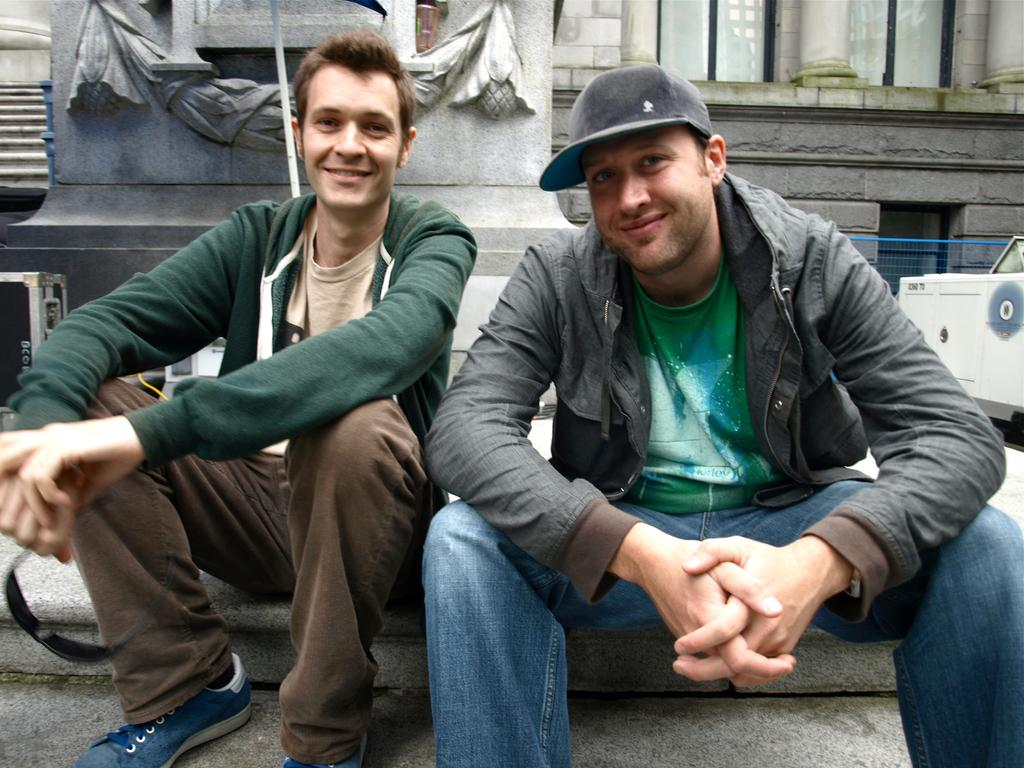Hat: (540, 66, 714, 194)
